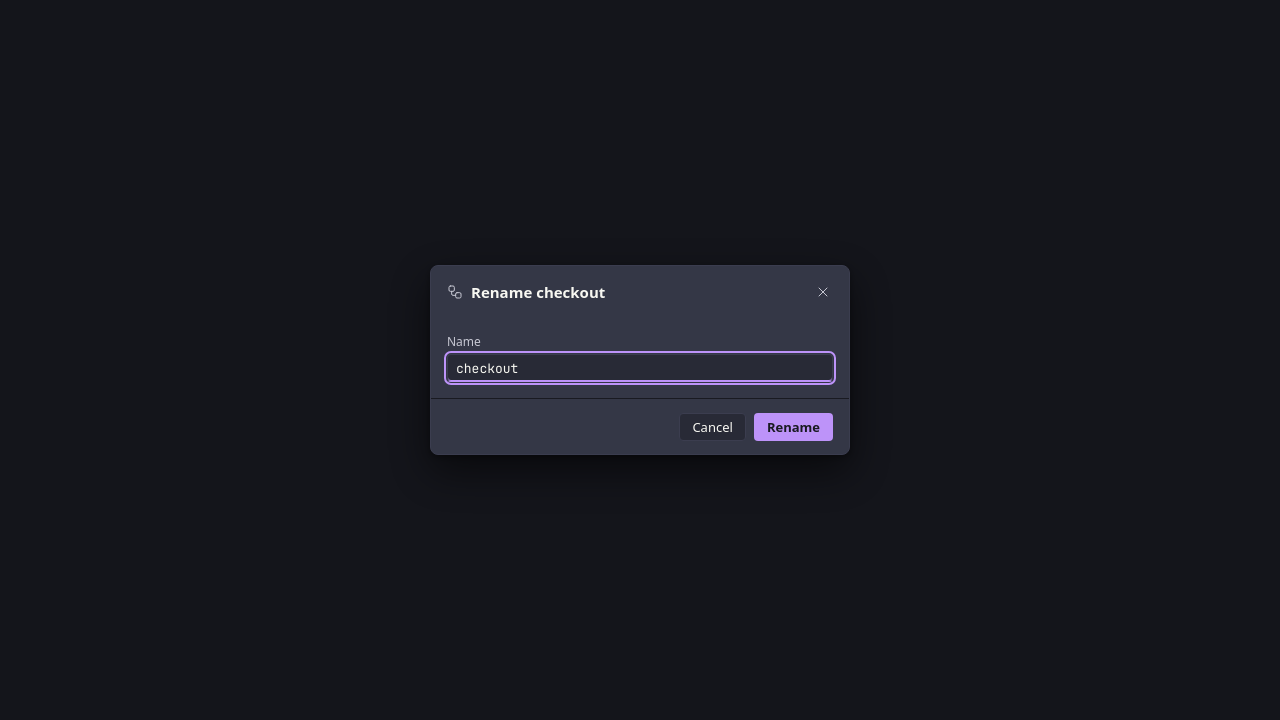
Test: rename_to_a_taken_name_says_so_and_keeps_the_old_tab
Replace the text in the field labelled "Name" with "payments" at (640, 368), box [447, 354, 833, 382]
Then press Enter
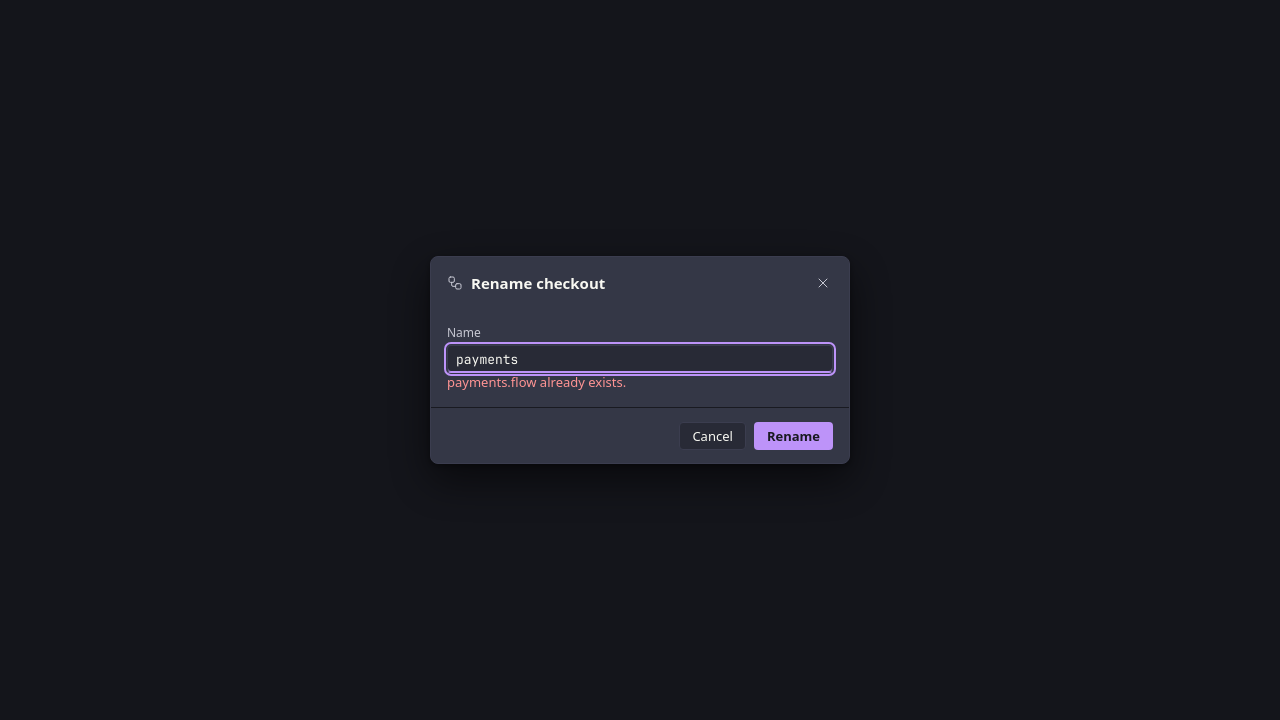
Expected: the message reads "payments.flow already exists.", [447, 373, 626, 391]
